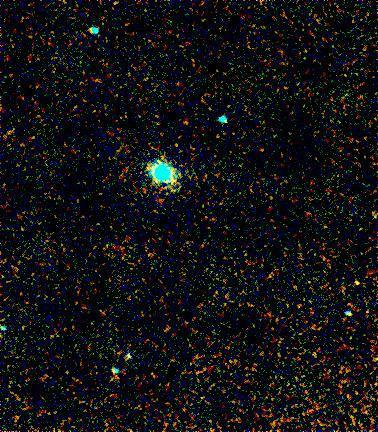star: (161, 171, 191, 201)
